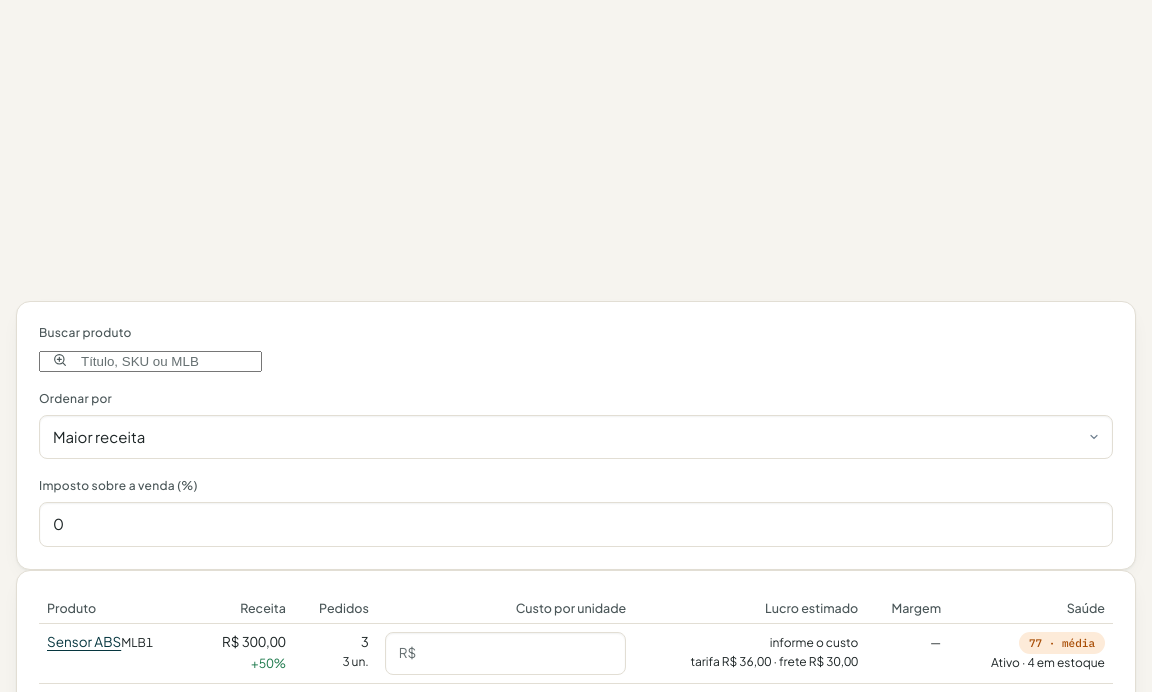
tabela de produtos › busca filtra por título e o custo digitado recalcula o lucro
This screenshot has width=1152, height=692.
In the search field with placeholder "Título, SKU ou MLB": (150, 361) left=39, top=350, right=262, bottom=372, type "sensor"
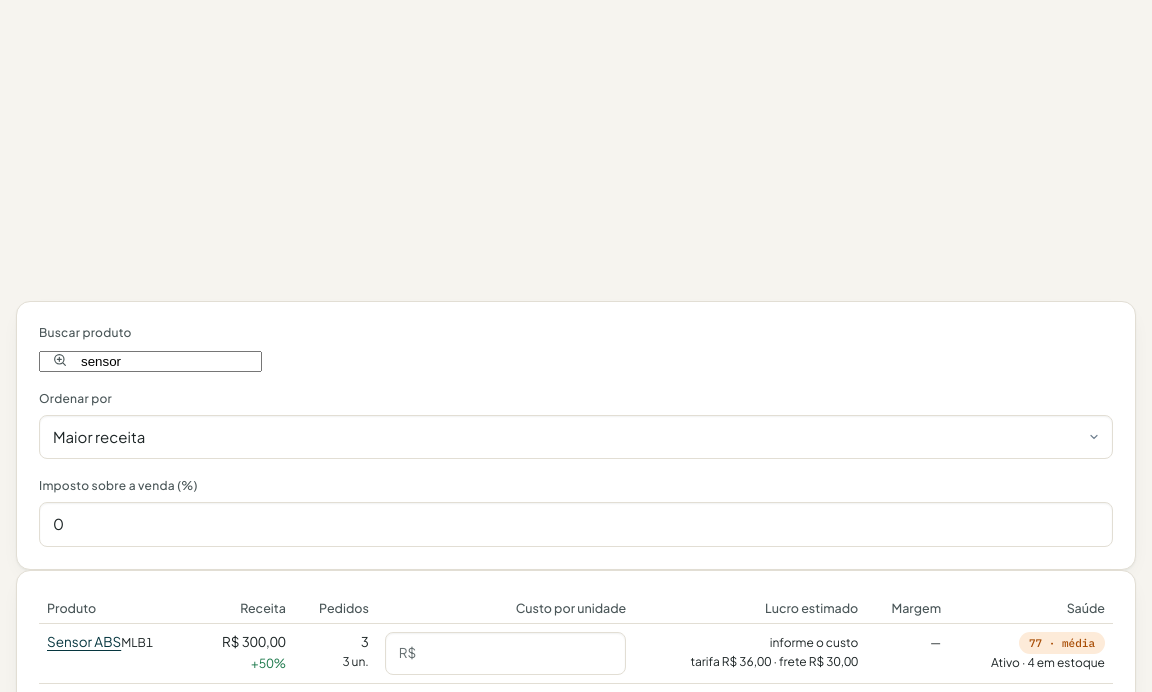
In the field named "Custo por unidade de Sensor ABS": (506, 653) left=385, top=632, right=626, bottom=675, type "50"
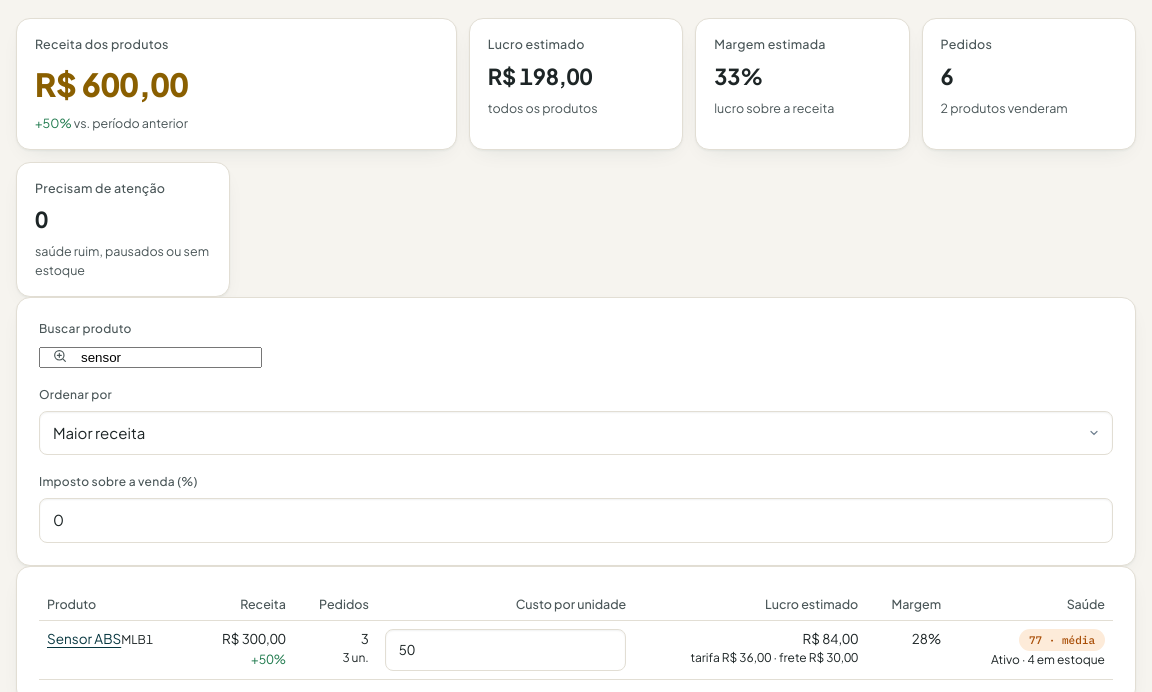
Check: the text "R$ 84,00" is shown, box left=803, top=630, right=858, bottom=646
